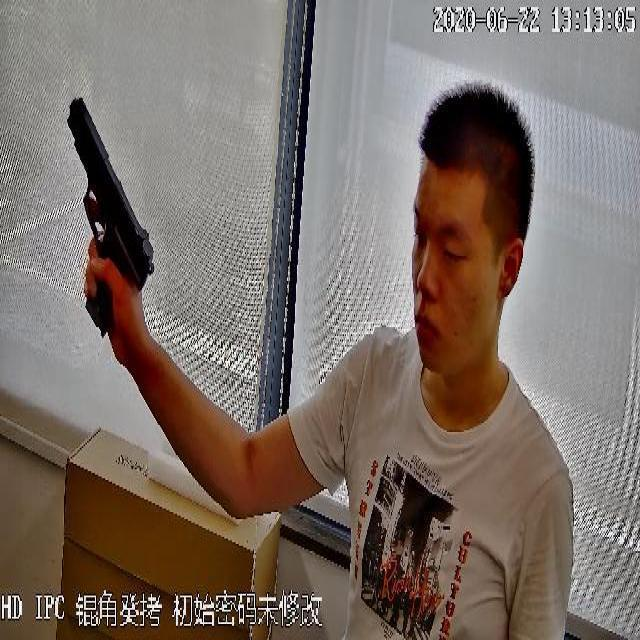pistol: (64, 96, 154, 361)
